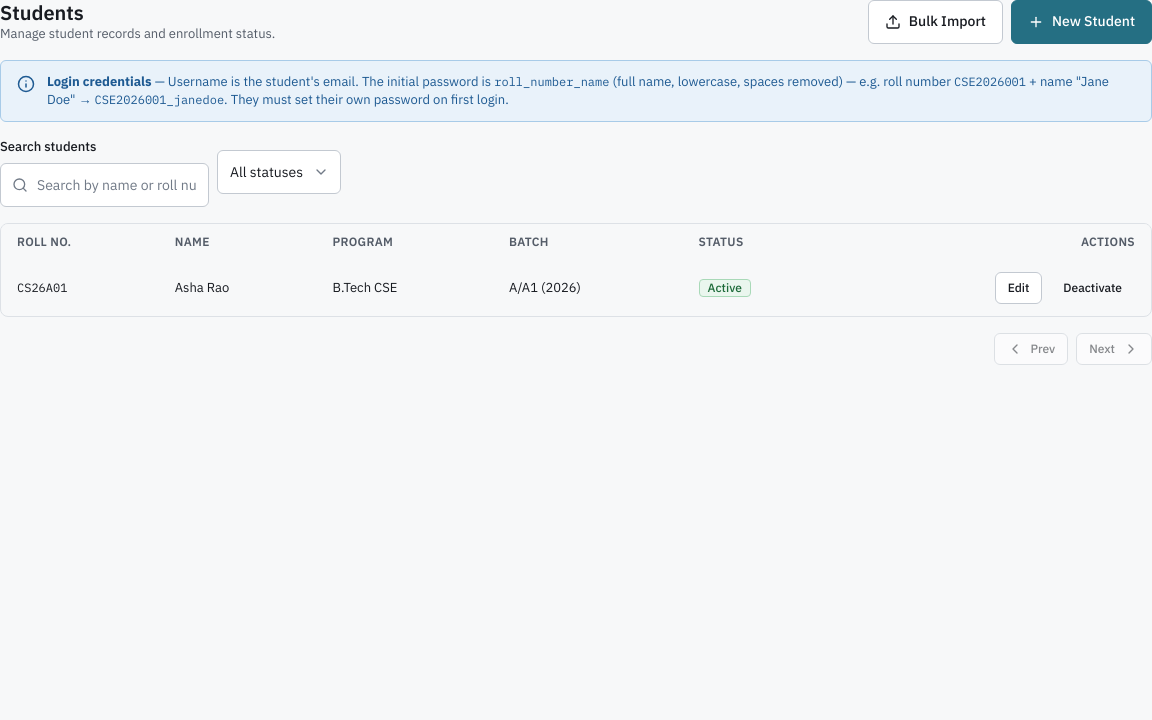
Admin > People > Students › shows a 409 conflict message for a duplicate roll number
Expected: the text "Asha Rao" is shown, [159, 260, 317, 316]
Click the button "New Student" at (1081, 22), box [1011, 0, 1151, 44]
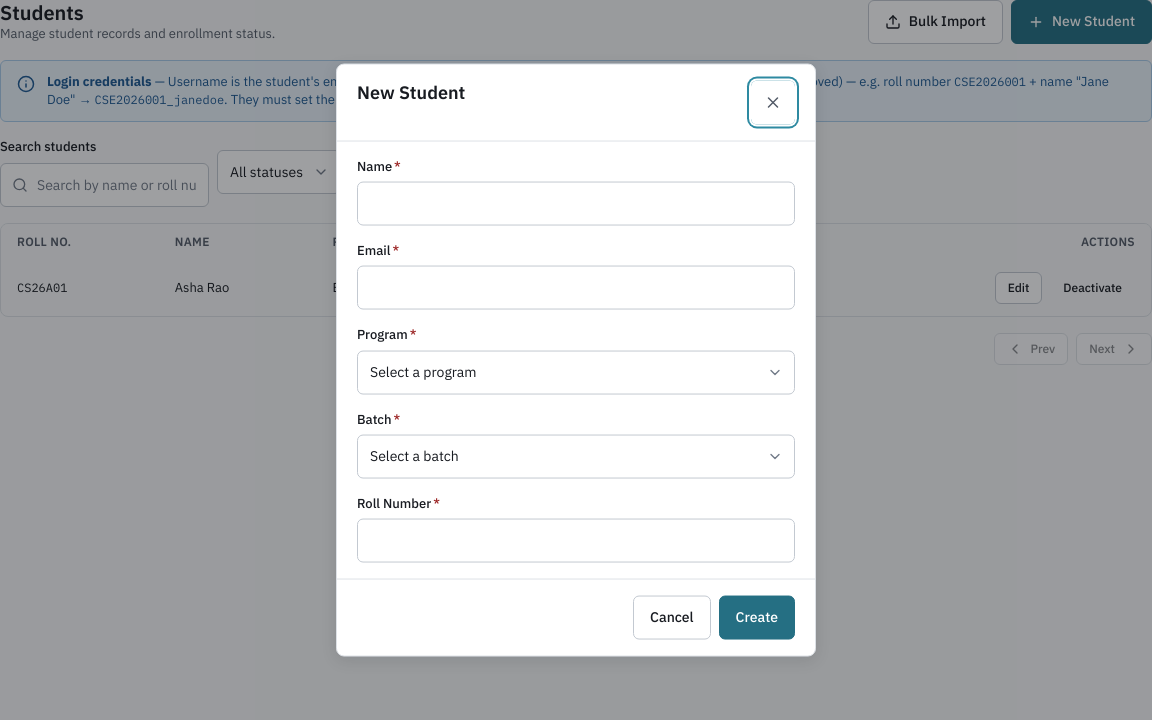
Type "Duplicate Student" into the field labelled "Name*" at (576, 204), box [357, 182, 795, 226]
Type "dup@example.com" into the field labelled "Email*" at (576, 288), box [357, 266, 795, 310]
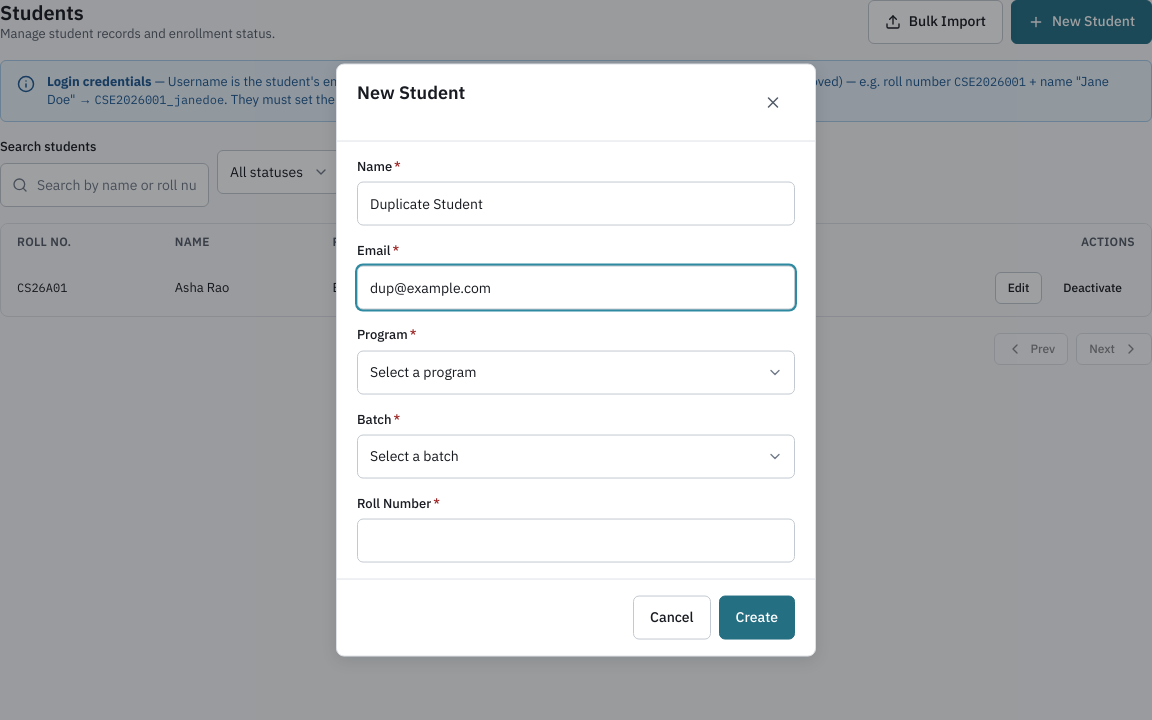
Select "BTCSE — B.Tech CSE" in the dropdown labelled "Program*" at (576, 372), box [357, 350, 795, 394]
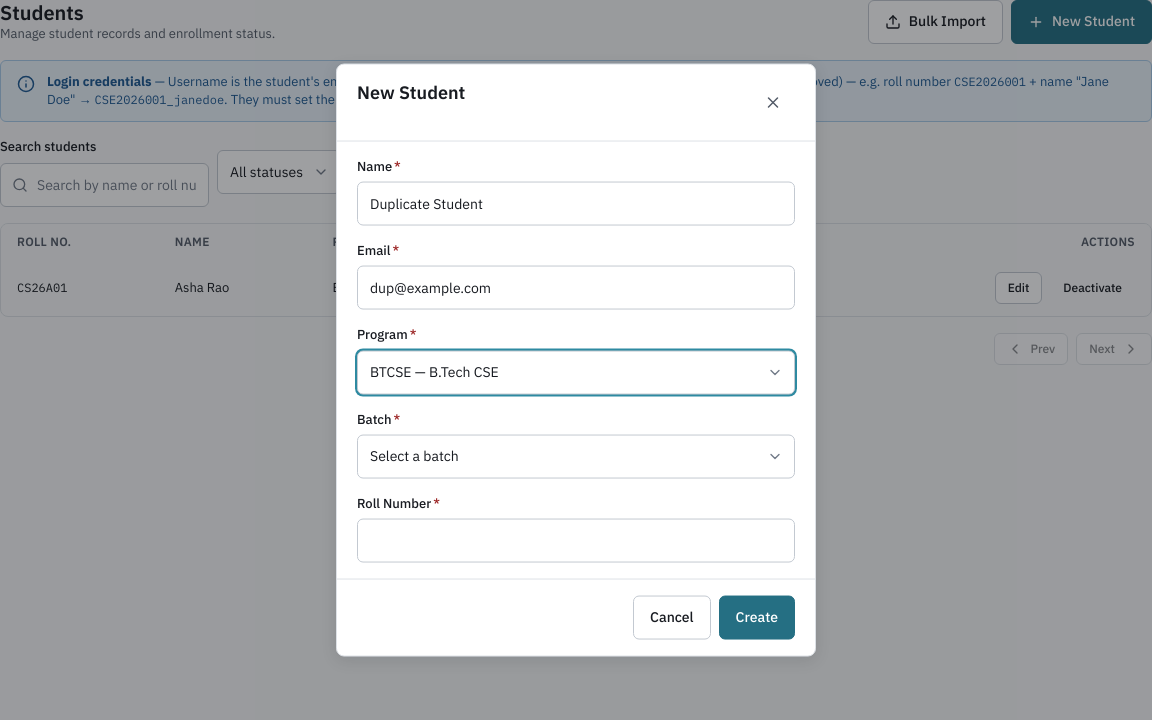
Select "A/A1 (2026)" in the dropdown labelled "Batch*" at (576, 456), box [357, 434, 795, 478]
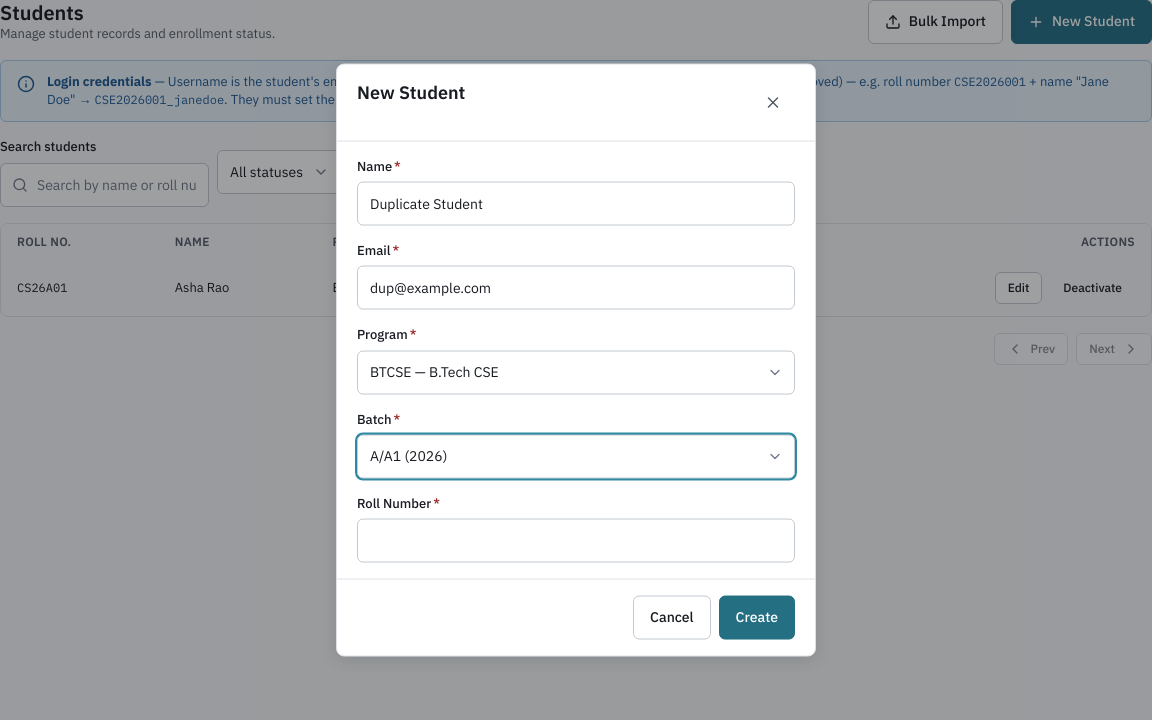
Type "CS26A01" into the field labelled "Roll Number*" at (576, 540), box [357, 518, 795, 562]
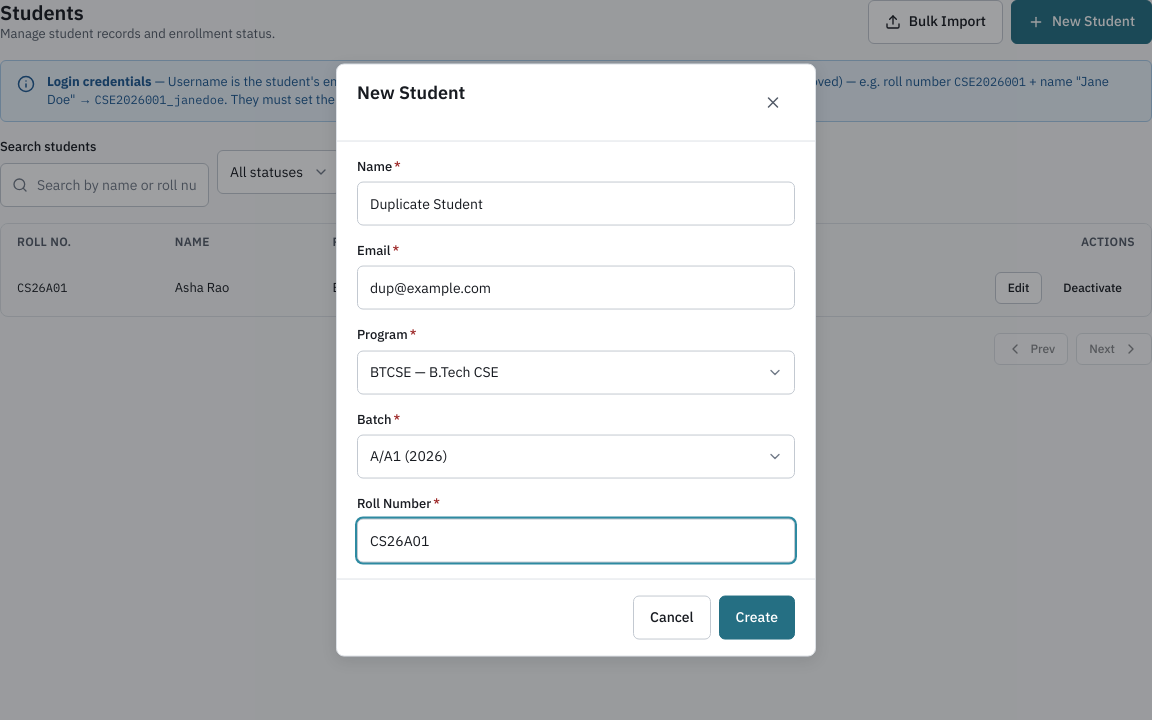
Click the button "Create" at (757, 618), box [719, 596, 795, 640]
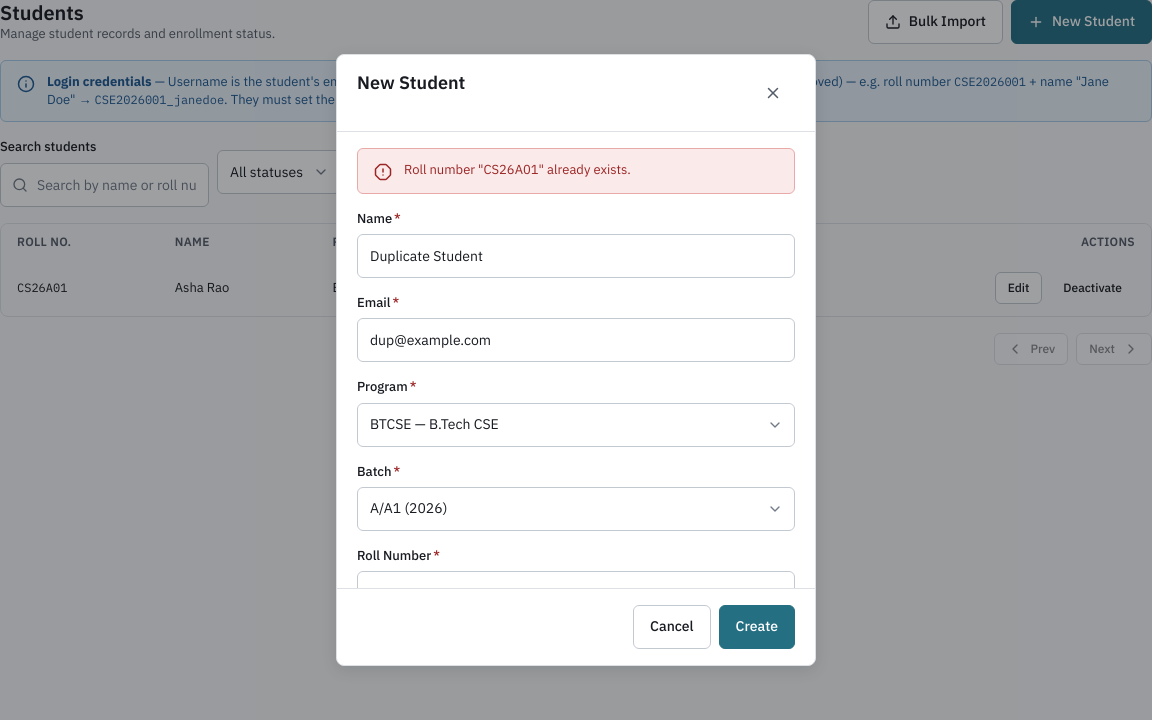
Expected: the text "Roll number \"CS26A01\" already exists." is shown, [404, 161, 631, 178]
